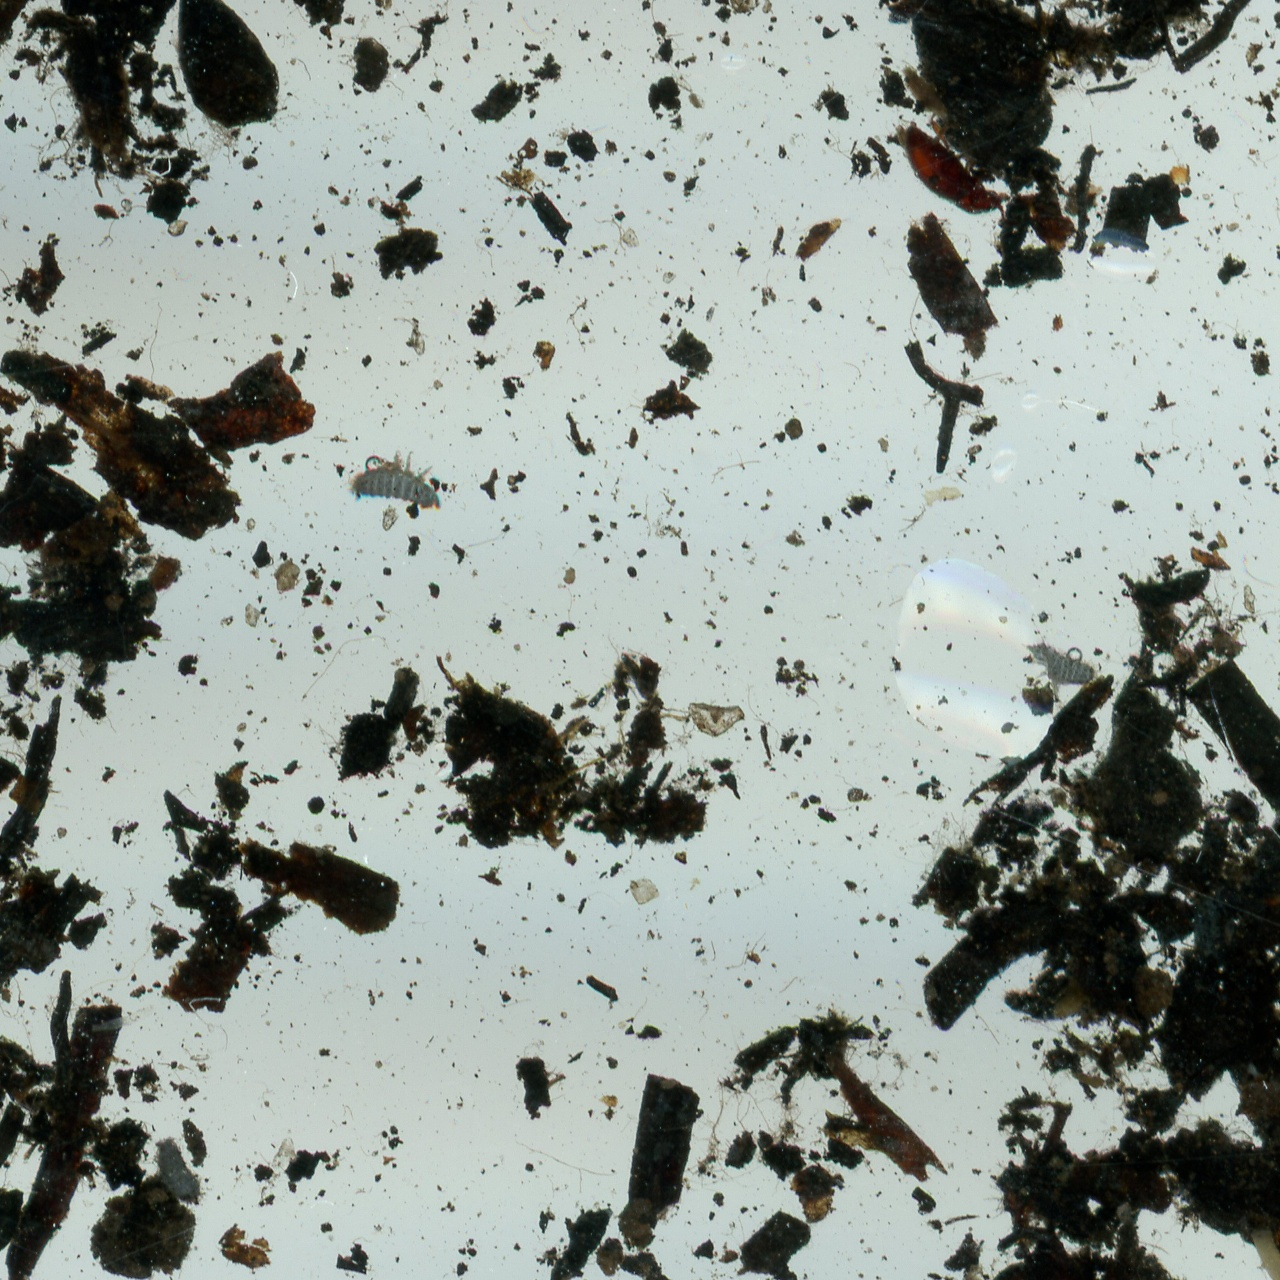arthropod: (872, 86, 1035, 253), (142, 1128, 213, 1220), (347, 449, 444, 513), (1020, 639, 1103, 692)
